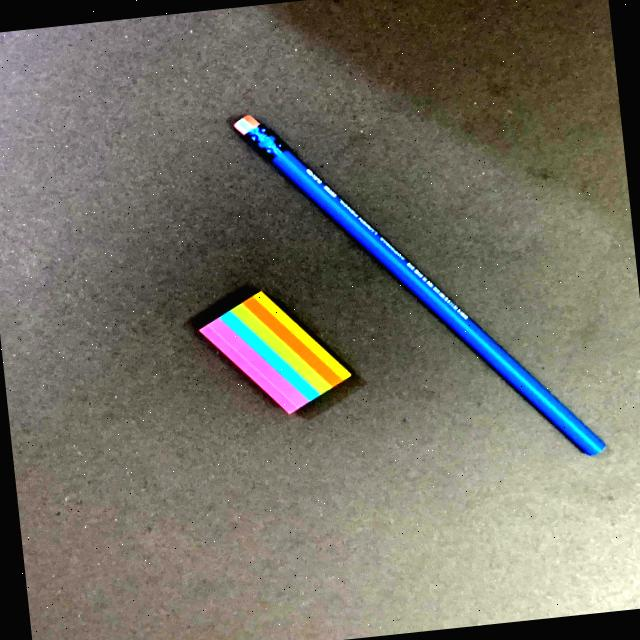Eraser: (159, 265, 379, 435)
Pencil: (194, 93, 638, 476)
